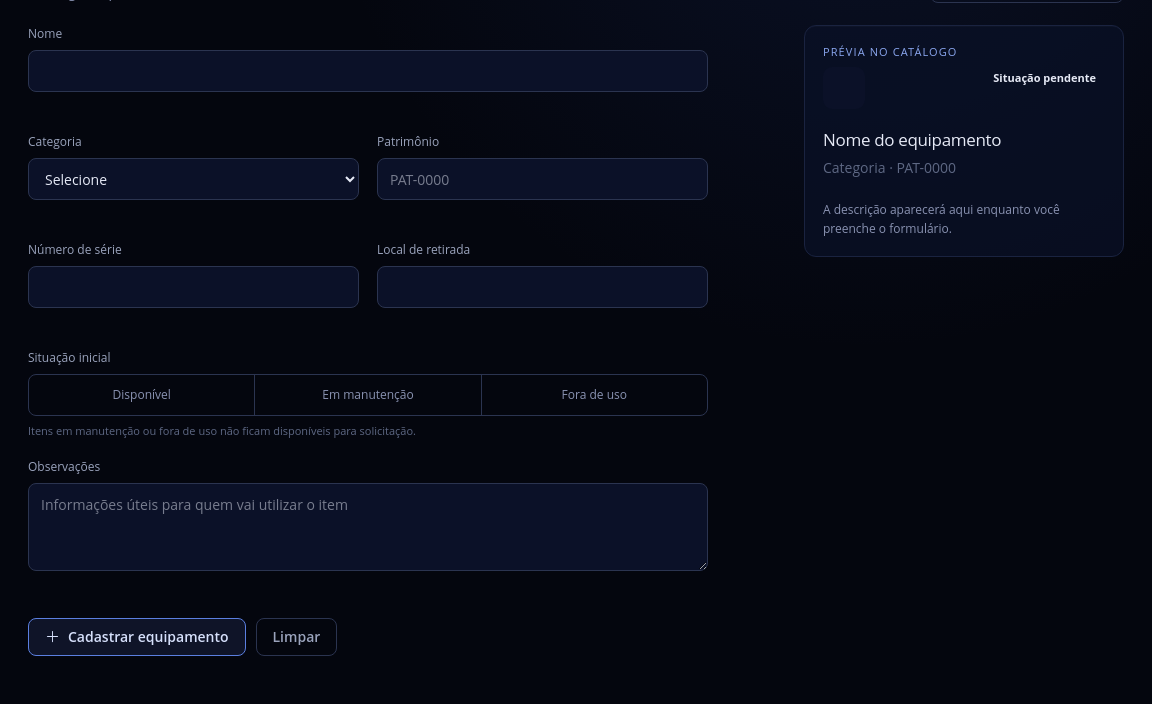
it: EquipmentForm › mostra mensagens de validação no envio inválido
The image size is (1152, 704).
(page scrolled)
Click the button "Cadastrar equipamento" at coordinates (137, 637), box left=28, top=618, right=246, bottom=656
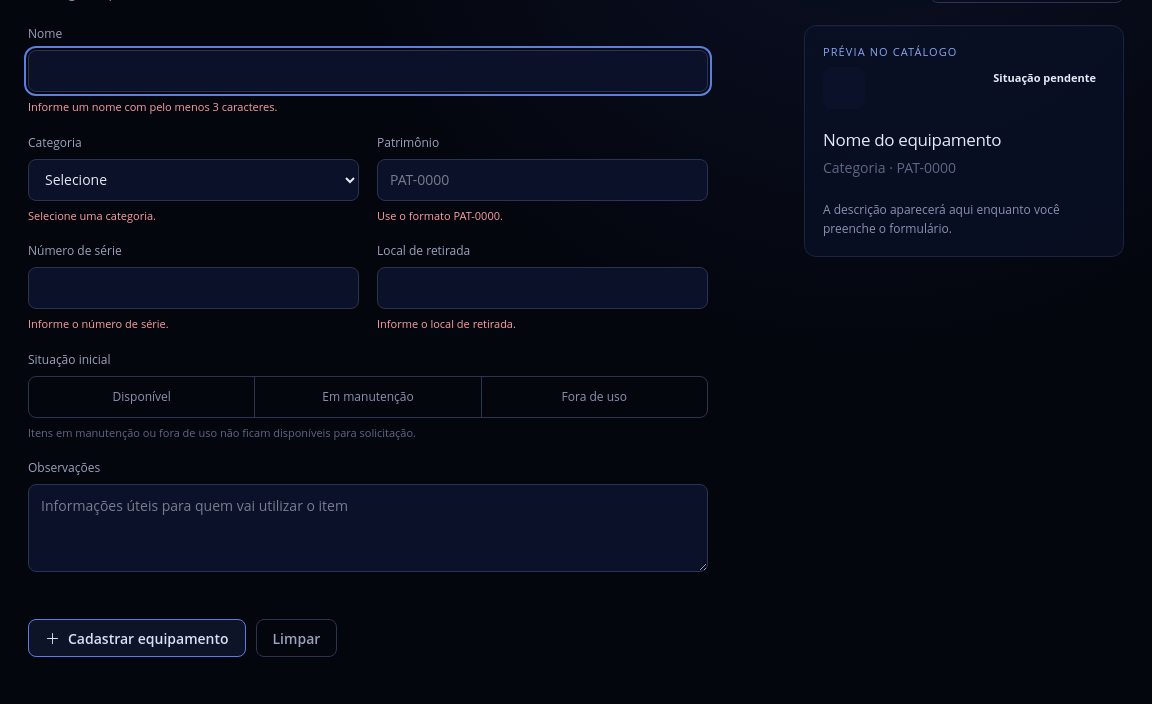
Expected: the text "Informe um nome com pelo menos 3 caracteres." is shown, left=28, top=99, right=277, bottom=114
Expected: the text "Use o formato PAT-0000." is shown, left=377, top=208, right=503, bottom=223
